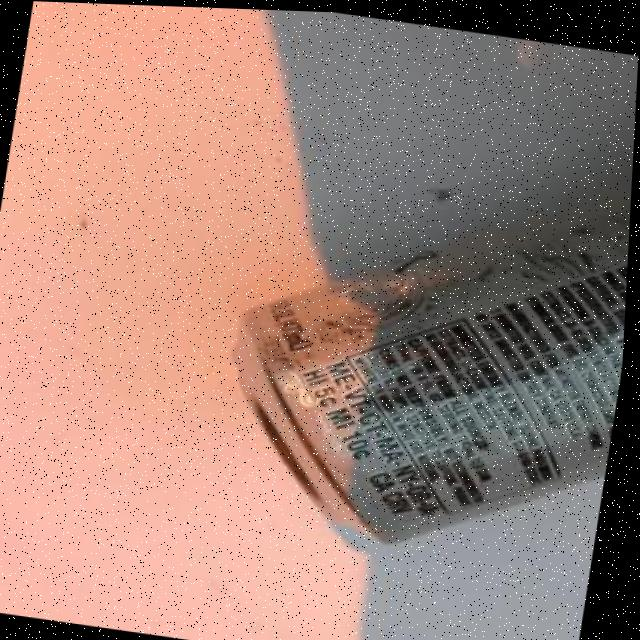metal: (188, 113, 636, 576)
